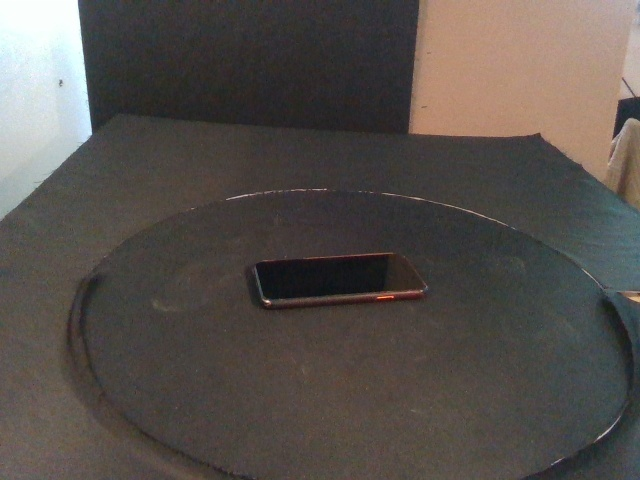phone: (251, 251, 428, 309)
